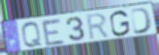3: (65, 16, 87, 43)
D: (130, 7, 154, 36)
E: (40, 18, 67, 47)
G: (109, 10, 132, 38)
Q: (20, 21, 44, 50)
R: (85, 12, 112, 42)
